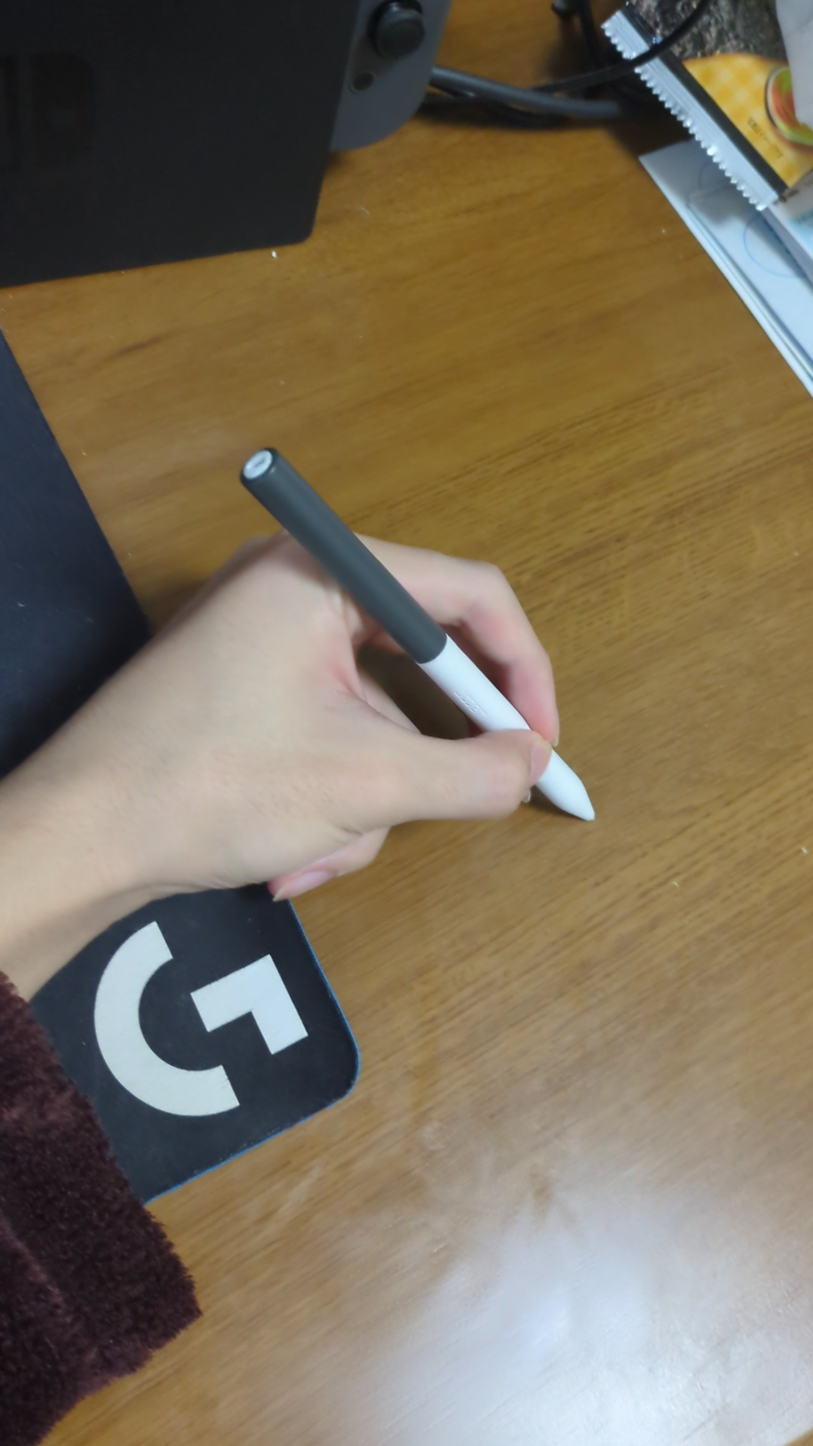pen: (235, 441, 600, 827)
tip: (581, 799, 617, 837)
